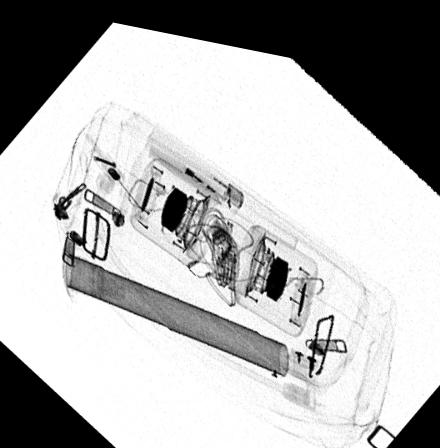Lighter: (144, 118, 244, 204)
